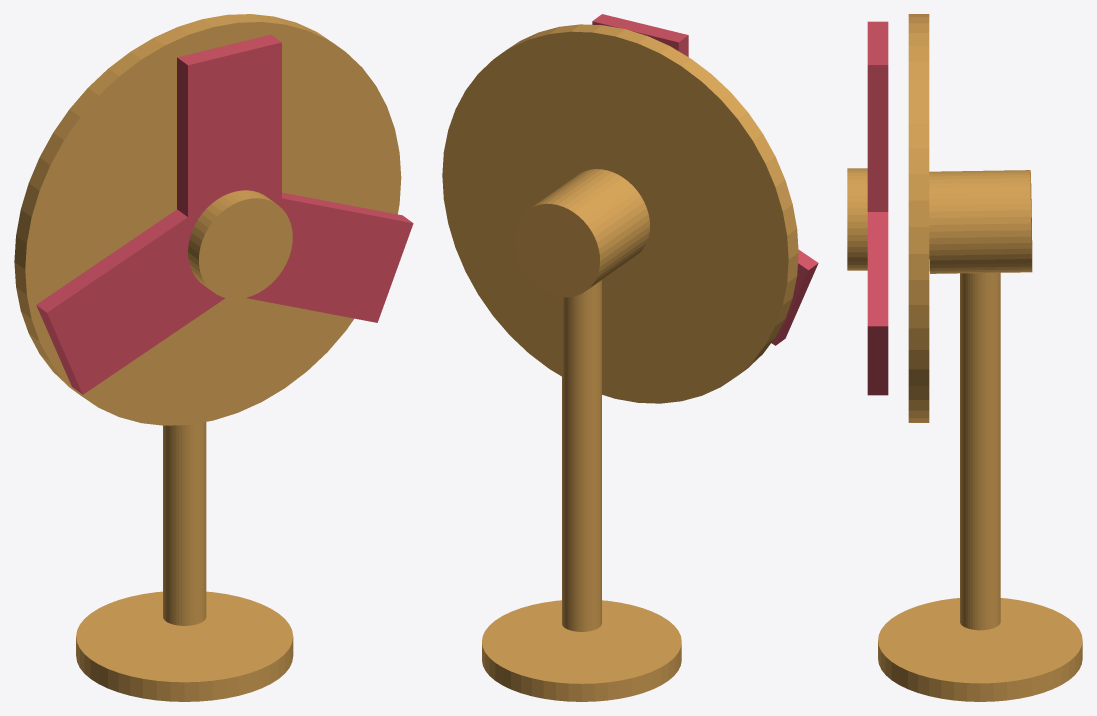
The model's file is ventilator.glb.
The picture shows the model from 3 angles, left to right: view 1: azimuth 30°, elevation 25°; view 2: azimuth 150°, elevation 25°; view 3: azimuth 270°, elevation 25°; orthographic projection. The views are drawn at different scales.
Parts seen in each view (by area): view 1: Mesh_Mesh_head_geo.001_lambert2SG.001; view 2: Mesh_Mesh_head_geo.001_lambert2SG.001; view 3: Mesh_Mesh_head_geo.001_lambert2SG.001.
Boxes of the visible parts, bbox=[...] form: Mesh_Mesh_head_geo.001_lambert2SG.001: bbox=[14, 14, 413, 701]; Mesh_Mesh_head_geo.001_lambert2SG.001: bbox=[442, 14, 818, 701]; Mesh_Mesh_head_geo.001_lambert2SG.001: bbox=[847, 14, 1082, 701].
Size of the model in its own units: 40 by 67 by 23.
